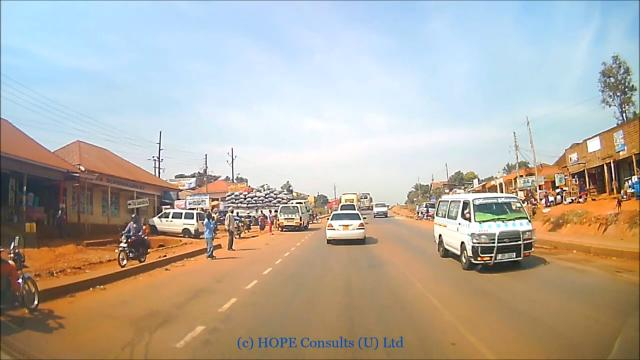car: (325, 211, 367, 245)
motorcycle: (117, 230, 149, 267), (234, 217, 246, 238)
truck: (276, 203, 310, 231), (358, 192, 372, 210)
van: (429, 187, 535, 273), (149, 209, 208, 238), (418, 202, 437, 220), (336, 202, 359, 214), (372, 202, 389, 218)
